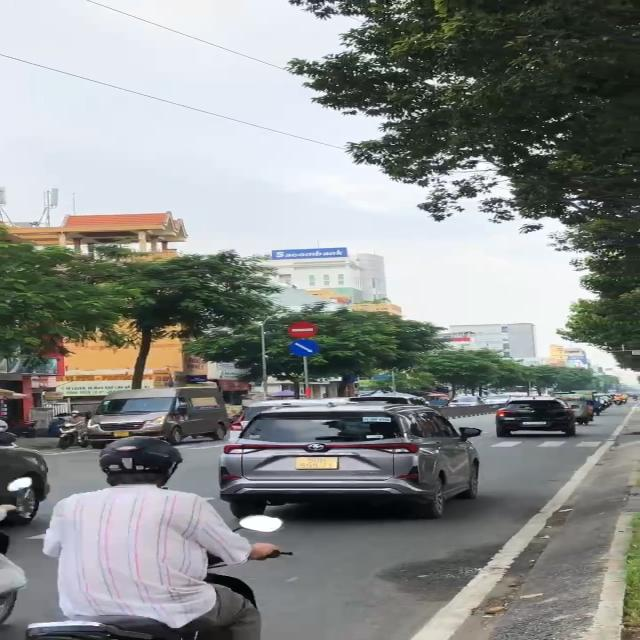Bien bao cam di nguoc chieu: (286, 320, 318, 339)
Bien bao huong phai di vong chuong ngai vat: (286, 339, 322, 358)
